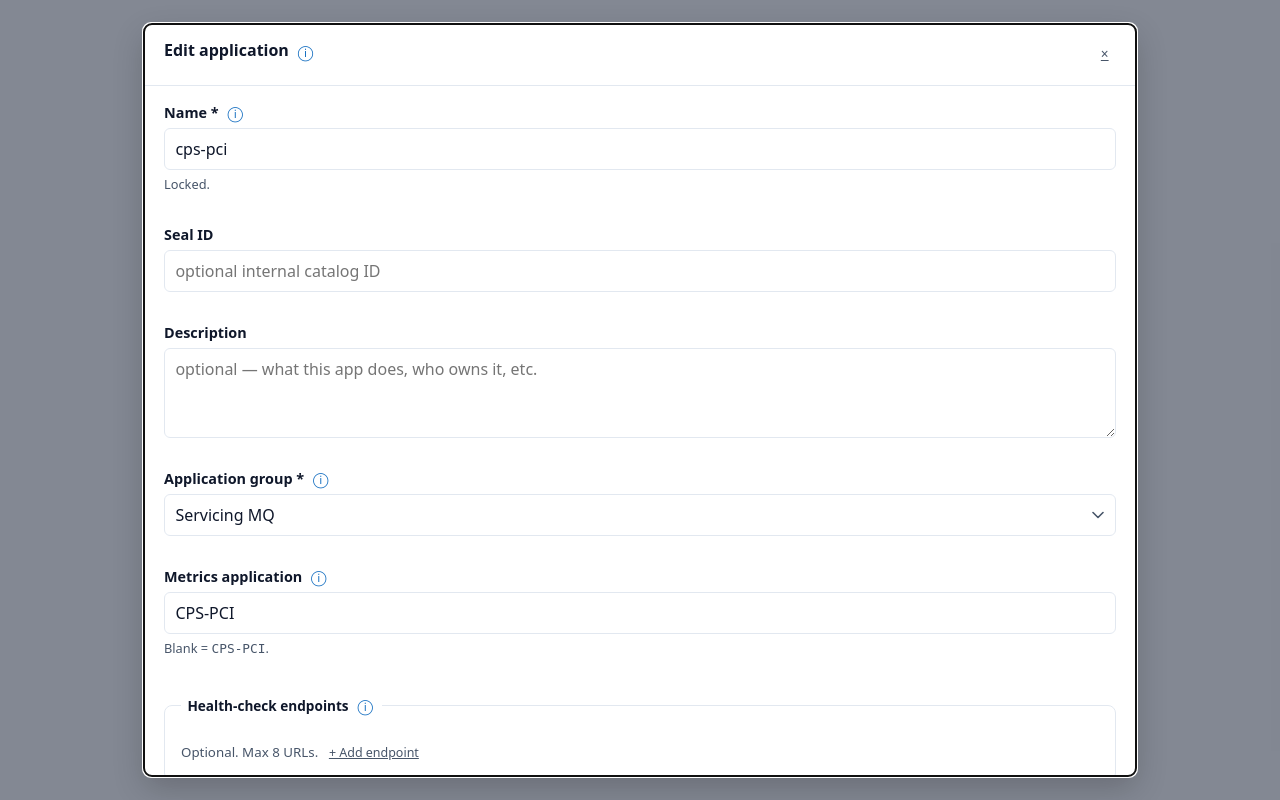
CreateApplicationDialog — application group › edit mode pre-selects the app's group and rejects a malformed classifier value
The image size is (1280, 800).
Check: the dropdown labelled "Application group *" shows "Servicing MQ", box [164,494,1116,536]
In the field labelled "Metrics application": coordinates (640, 613) [164,592,1116,634], type "has space"
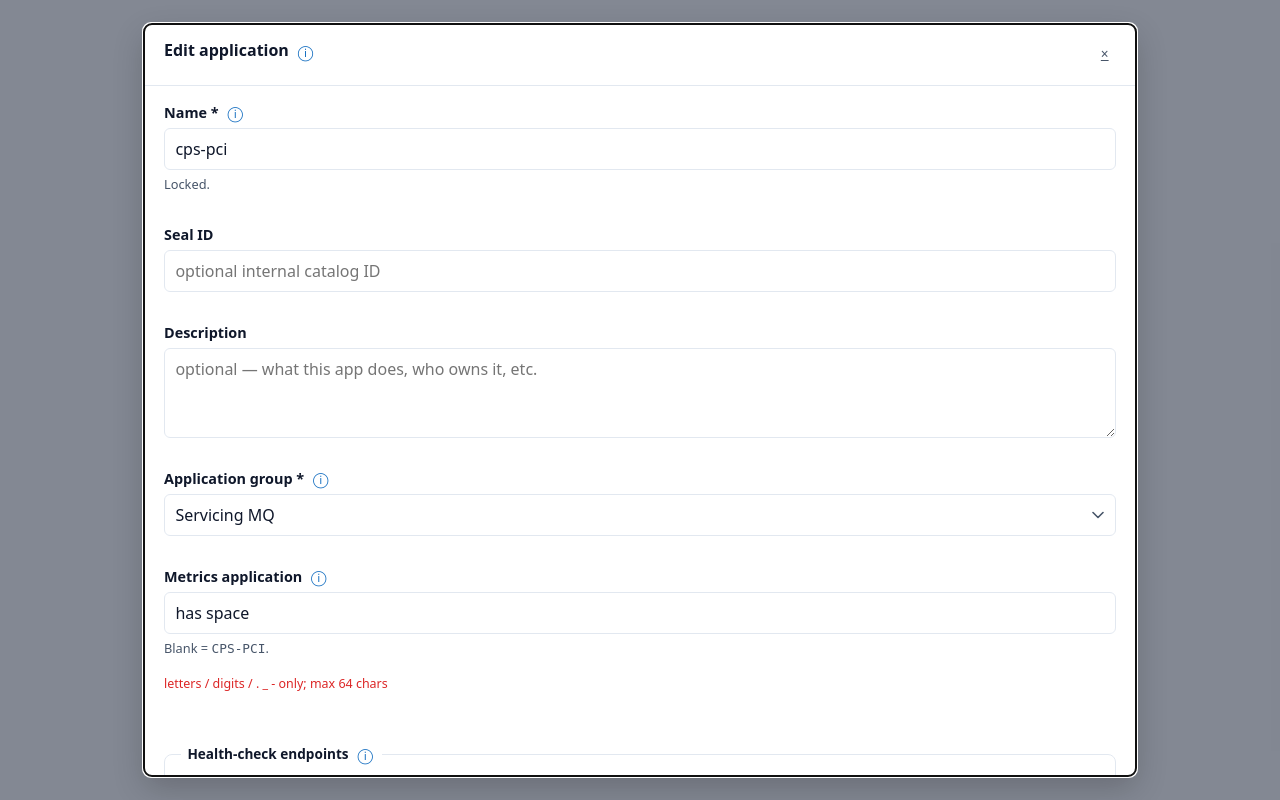
Check: the message shows "letters / digits", box [164,675,388,692]
